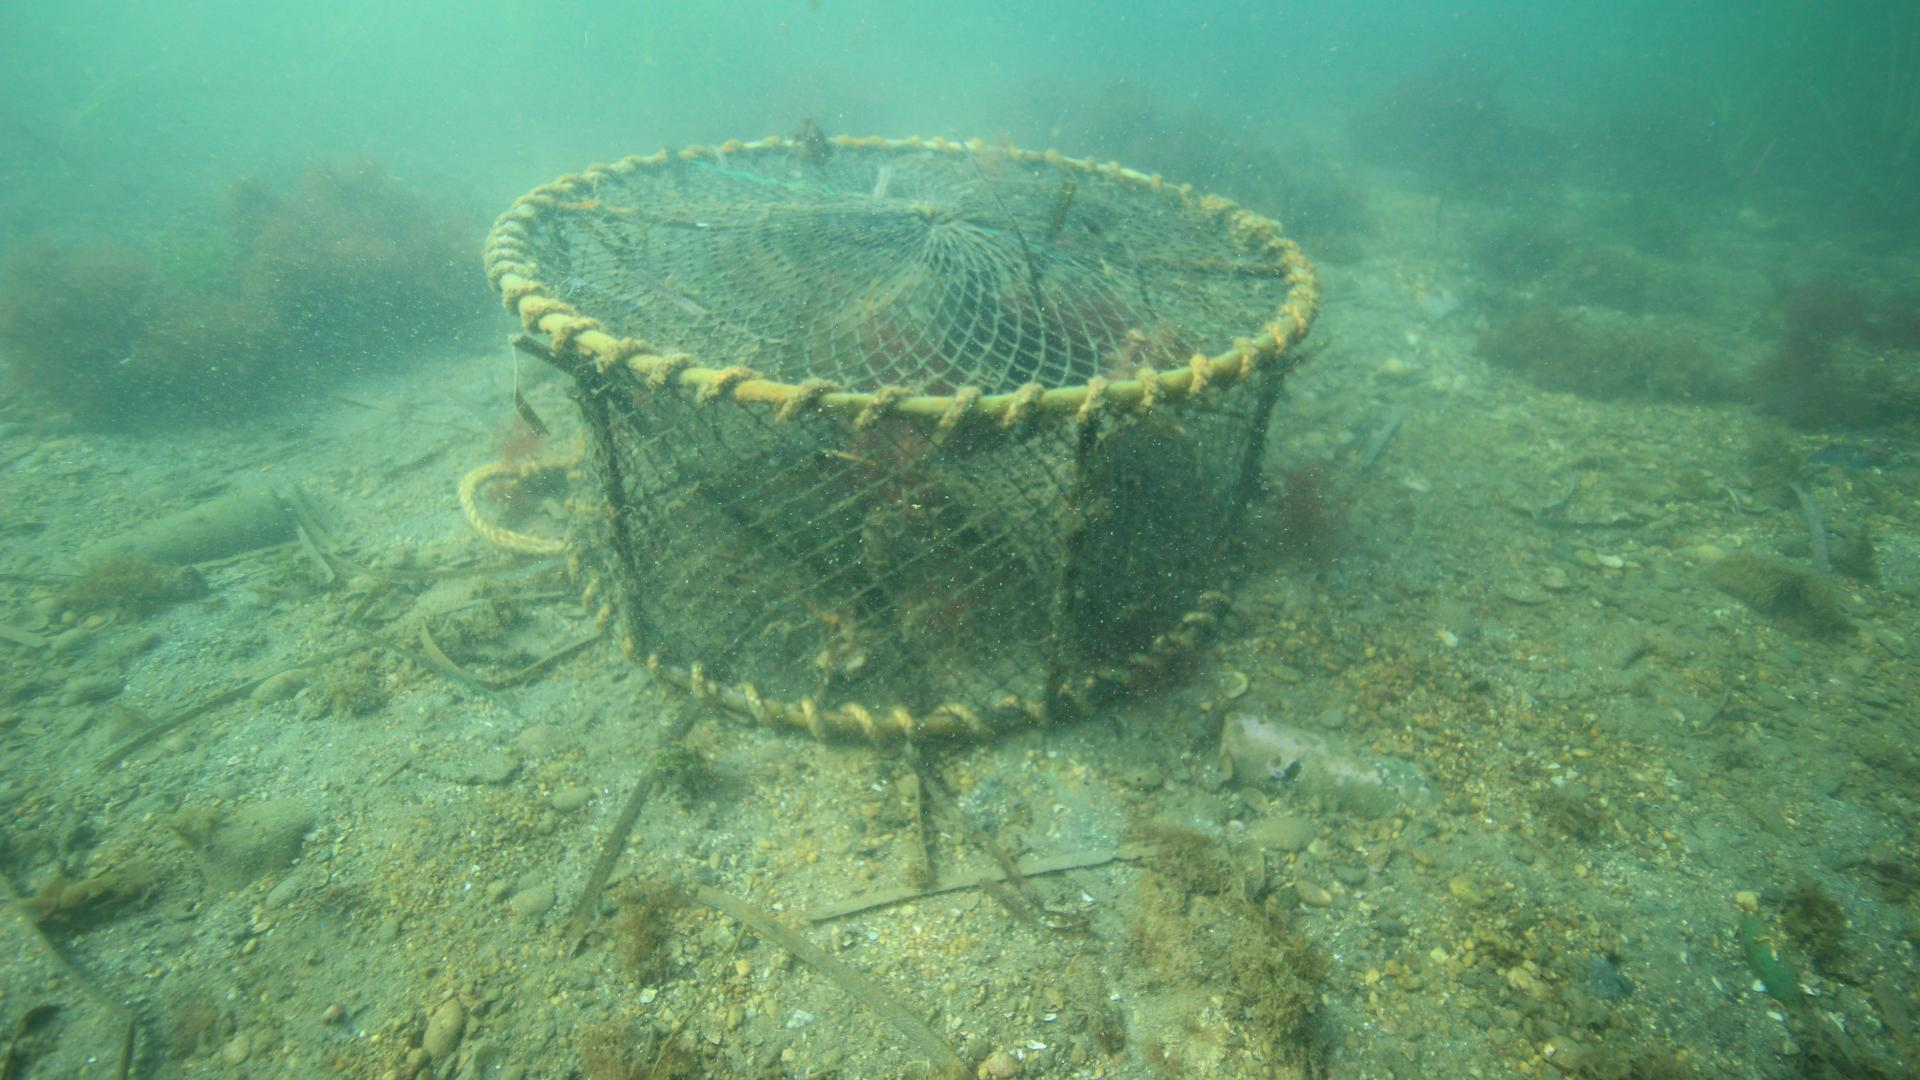bundle of ropes: (455, 456, 564, 554)
circular fish trap: (483, 131, 1323, 746)
